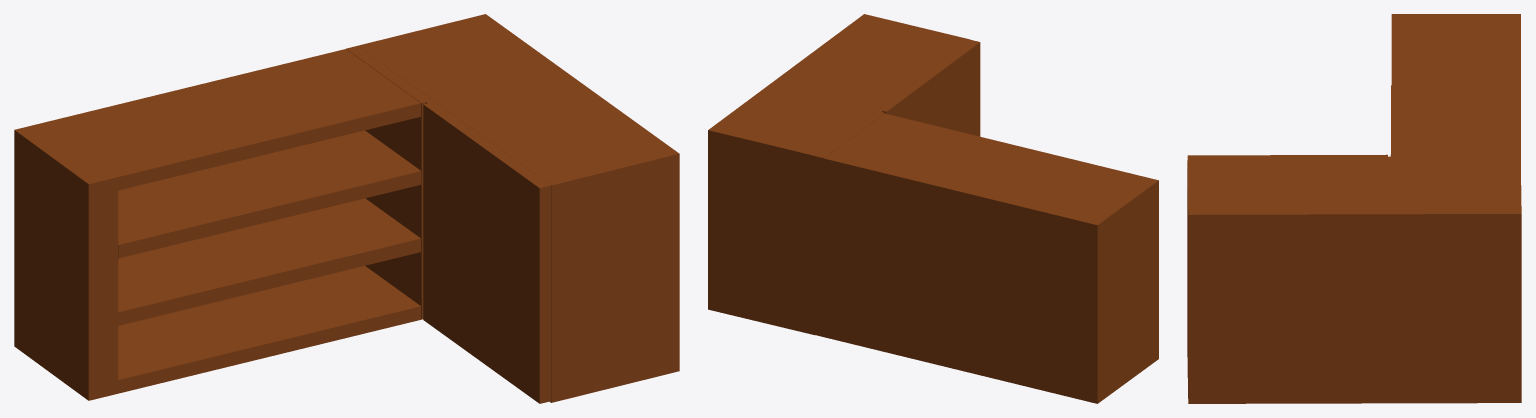
The model's file is receptiondesk.fbx.
3 views of the same model, side by side, from view 1: azimuth 30°, elevation 25°; view 2: azimuth 150°, elevation 25°; view 3: azimuth 270°, elevation 25° (orthographic). The views are drawn at different scales.
Parts seen in each view (by area): view 1: receptiondesk; view 2: receptiondesk; view 3: receptiondesk.
Boxes of the visible parts, x1,y1,x2,y2 form: receptiondesk: [14, 14, 679, 403]; receptiondesk: [708, 14, 1158, 403]; receptiondesk: [1187, 14, 1521, 403].
Bounding box in the file's own units: 111 × 48.61 × 77.84.
